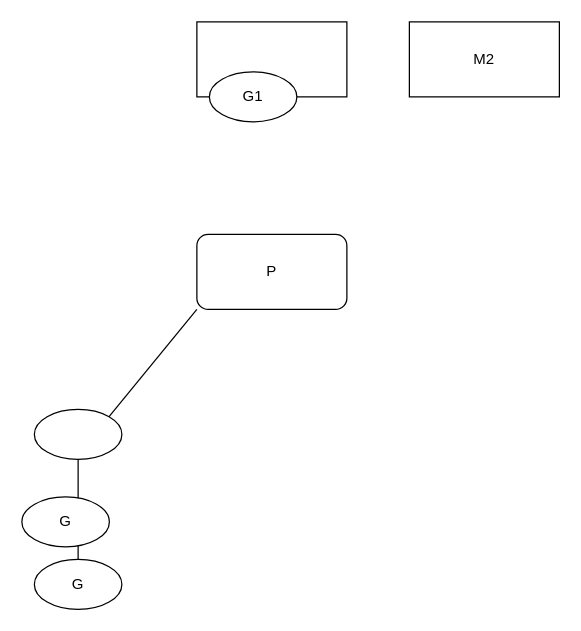
The diagram is 581 pixels wide and 631 high, and some of its shapes have lost their labels. Here are the shapes that lost their labels. From the top down, the box of each, then its label:
(196, 21, 347, 97): M1
(33, 408, 122, 459): G2
